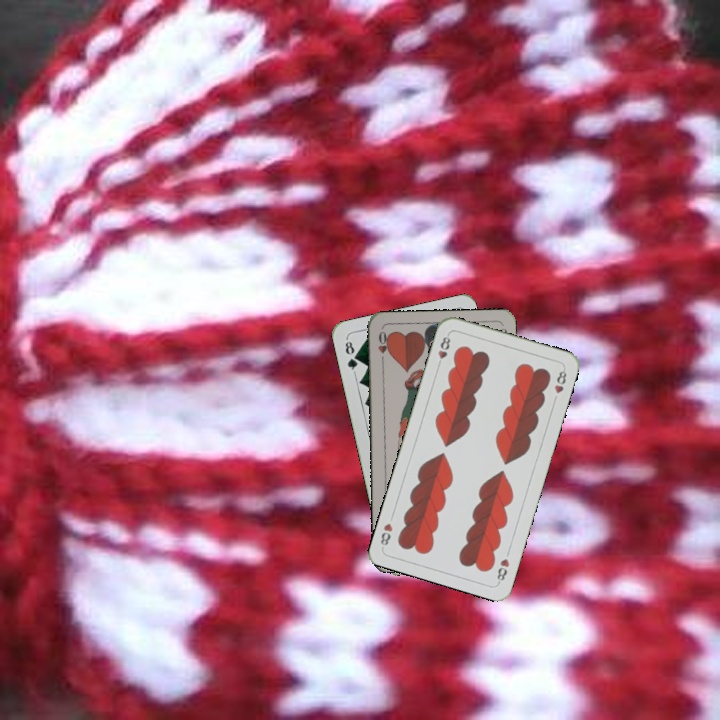G8: (341, 335, 360, 375)
H8: (433, 330, 453, 370), (493, 554, 512, 585)
HO: (374, 327, 391, 367)
